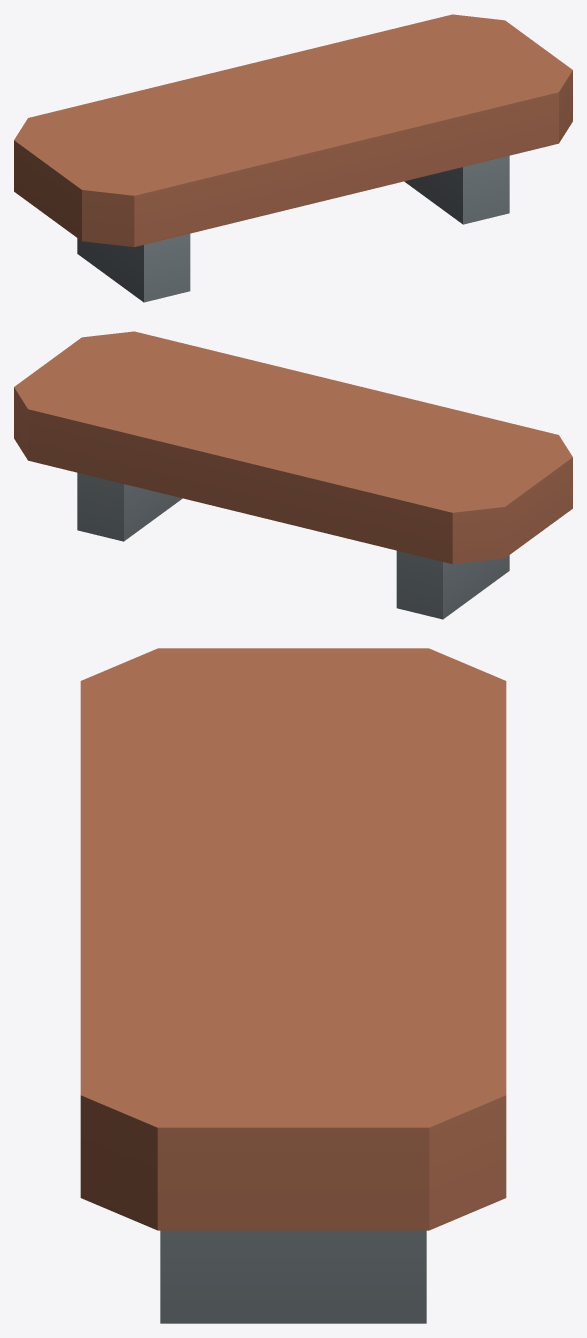
File: Bench.glb
3 views of the same model, one above another, from view 1: azimuth 30°, elevation 25°; view 2: azimuth 150°, elevation 25°; view 3: azimuth 270°, elevation 25° (orthographic). The views are drawn at different scales.
Visible parts, largest first — view 1: bench; view 2: bench; view 3: bench.
Part boxes in pixels (x1,y1,x2,y2): bench: (14,14,572,302); bench: (14,331,572,619); bench: (80,648,506,1323).
Size of the model in its own units: 0.4 by 0.1 by 0.15.
1 material, 1 textured.
